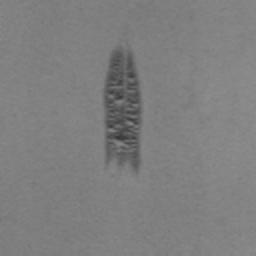Oxide scale of plate system: (104, 47, 142, 172)
